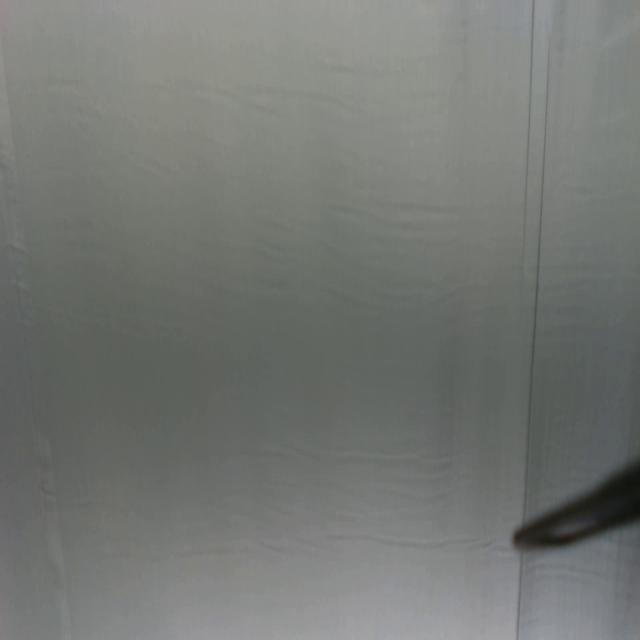crease: (526, 43, 551, 507), (521, 0, 535, 276), (516, 550, 526, 640)
